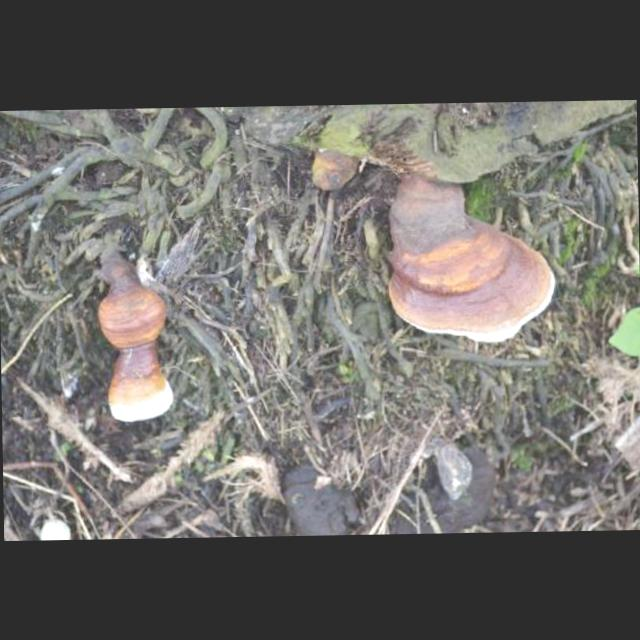ganoderma: (386, 210, 559, 347), (105, 353, 175, 425)
